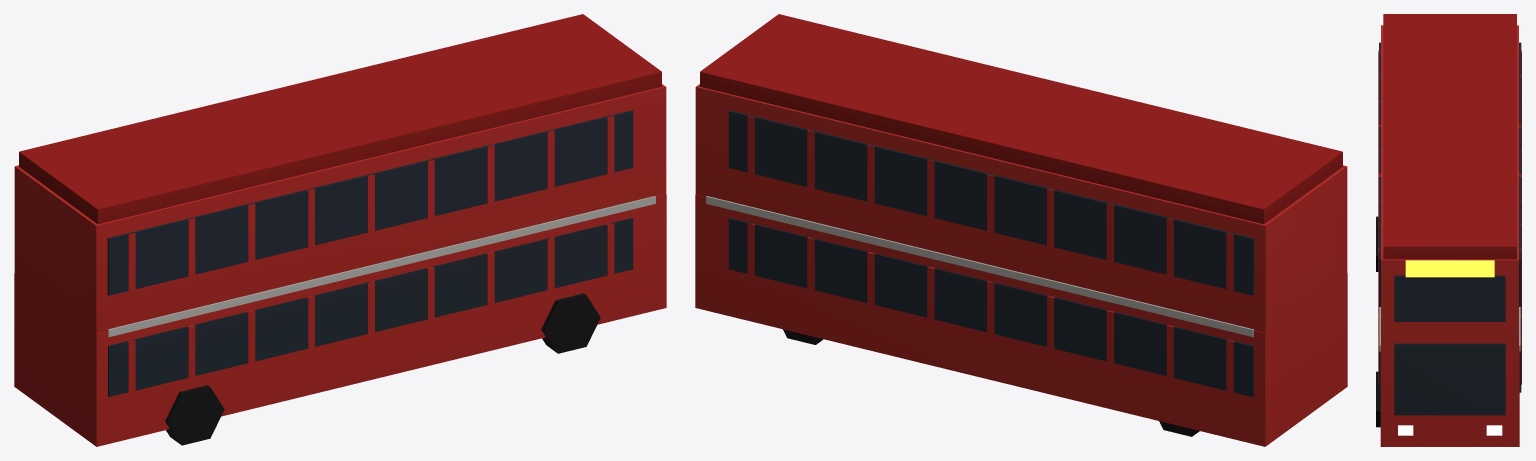
Rendered from ld_bus_lo-un6k3_xI.glb.
The picture shows the model from 3 angles, left to right: view 1: azimuth 30°, elevation 25°; view 2: azimuth 150°, elevation 25°; view 3: azimuth 270°, elevation 25°; orthographic projection. The views are drawn at different scales.
Bounding box in the file's own units: 10.08 × 4.23 × 2.62.
